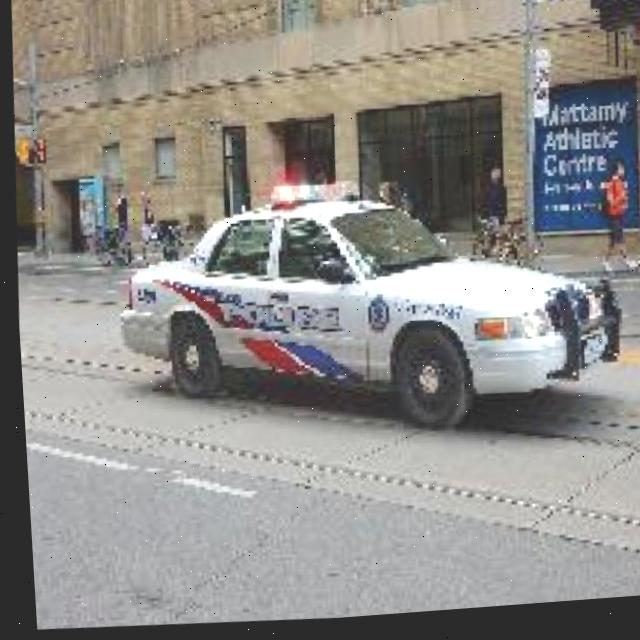emergency: (99, 155, 630, 462)
